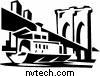boat: (5, 21, 74, 66)
